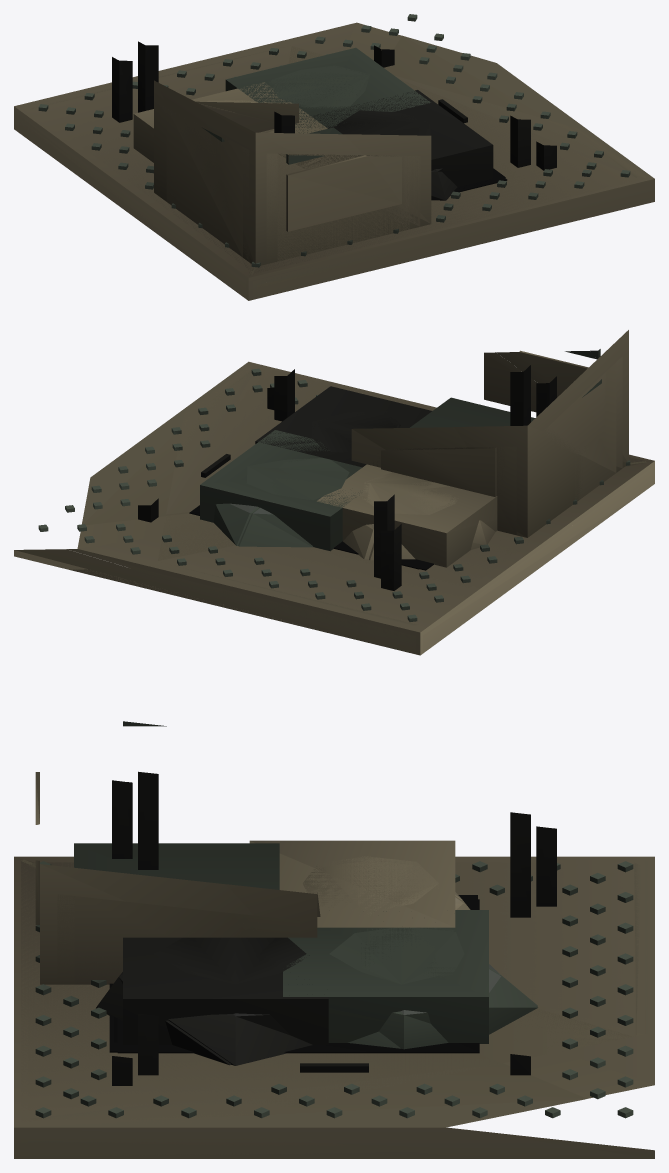
File: neutral_relay_transmitter_rubble.glb
3 renders of one model, top to bottom at view 1: azimuth 30°, elevation 25°; view 2: azimuth 150°, elevation 25°; view 3: azimuth 270°, elevation 25°, orthographic. The views are drawn at different scales.
Parts seen in each view (by area): view 1: body (×3); view 2: body (×3); view 3: body (×3).
Part boxes in pixels (x1,y1,x2,y2): body (×3): (14, 14, 654, 300); body (×3): (14, 330, 654, 655); body (×3): (14, 721, 654, 1158).
Size of the model in its own units: 3.7 by 1.37 by 3.7.
